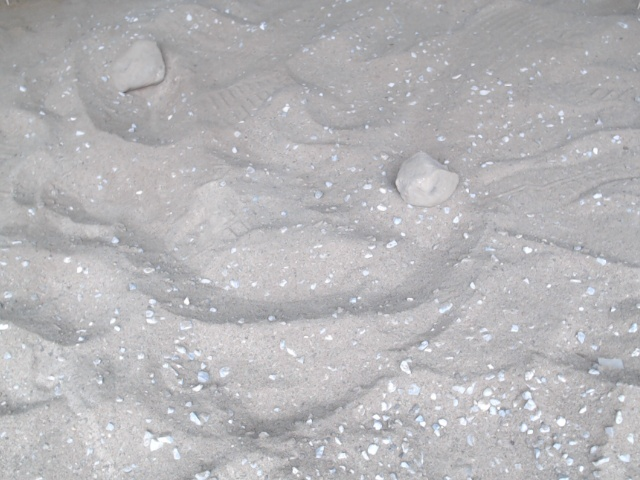rock: (390, 146, 464, 211), (104, 34, 172, 98)
